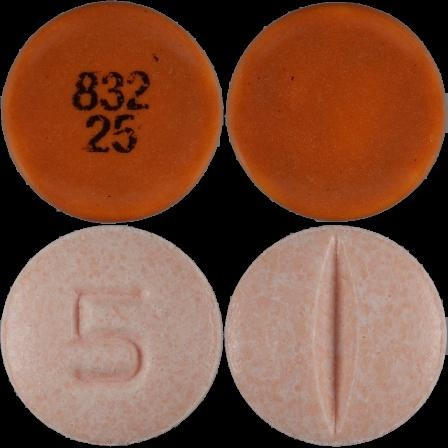24236-323: (0, 0, 224, 224)
